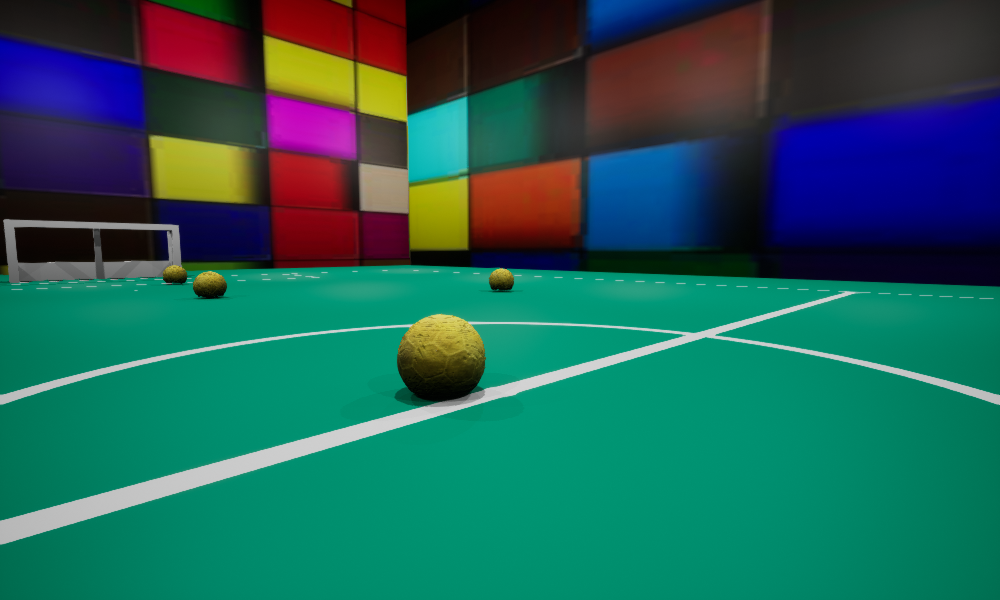b: (397, 314, 485, 399), (193, 271, 226, 297), (489, 268, 513, 291), (163, 265, 187, 284)
g: (3, 219, 181, 282)
